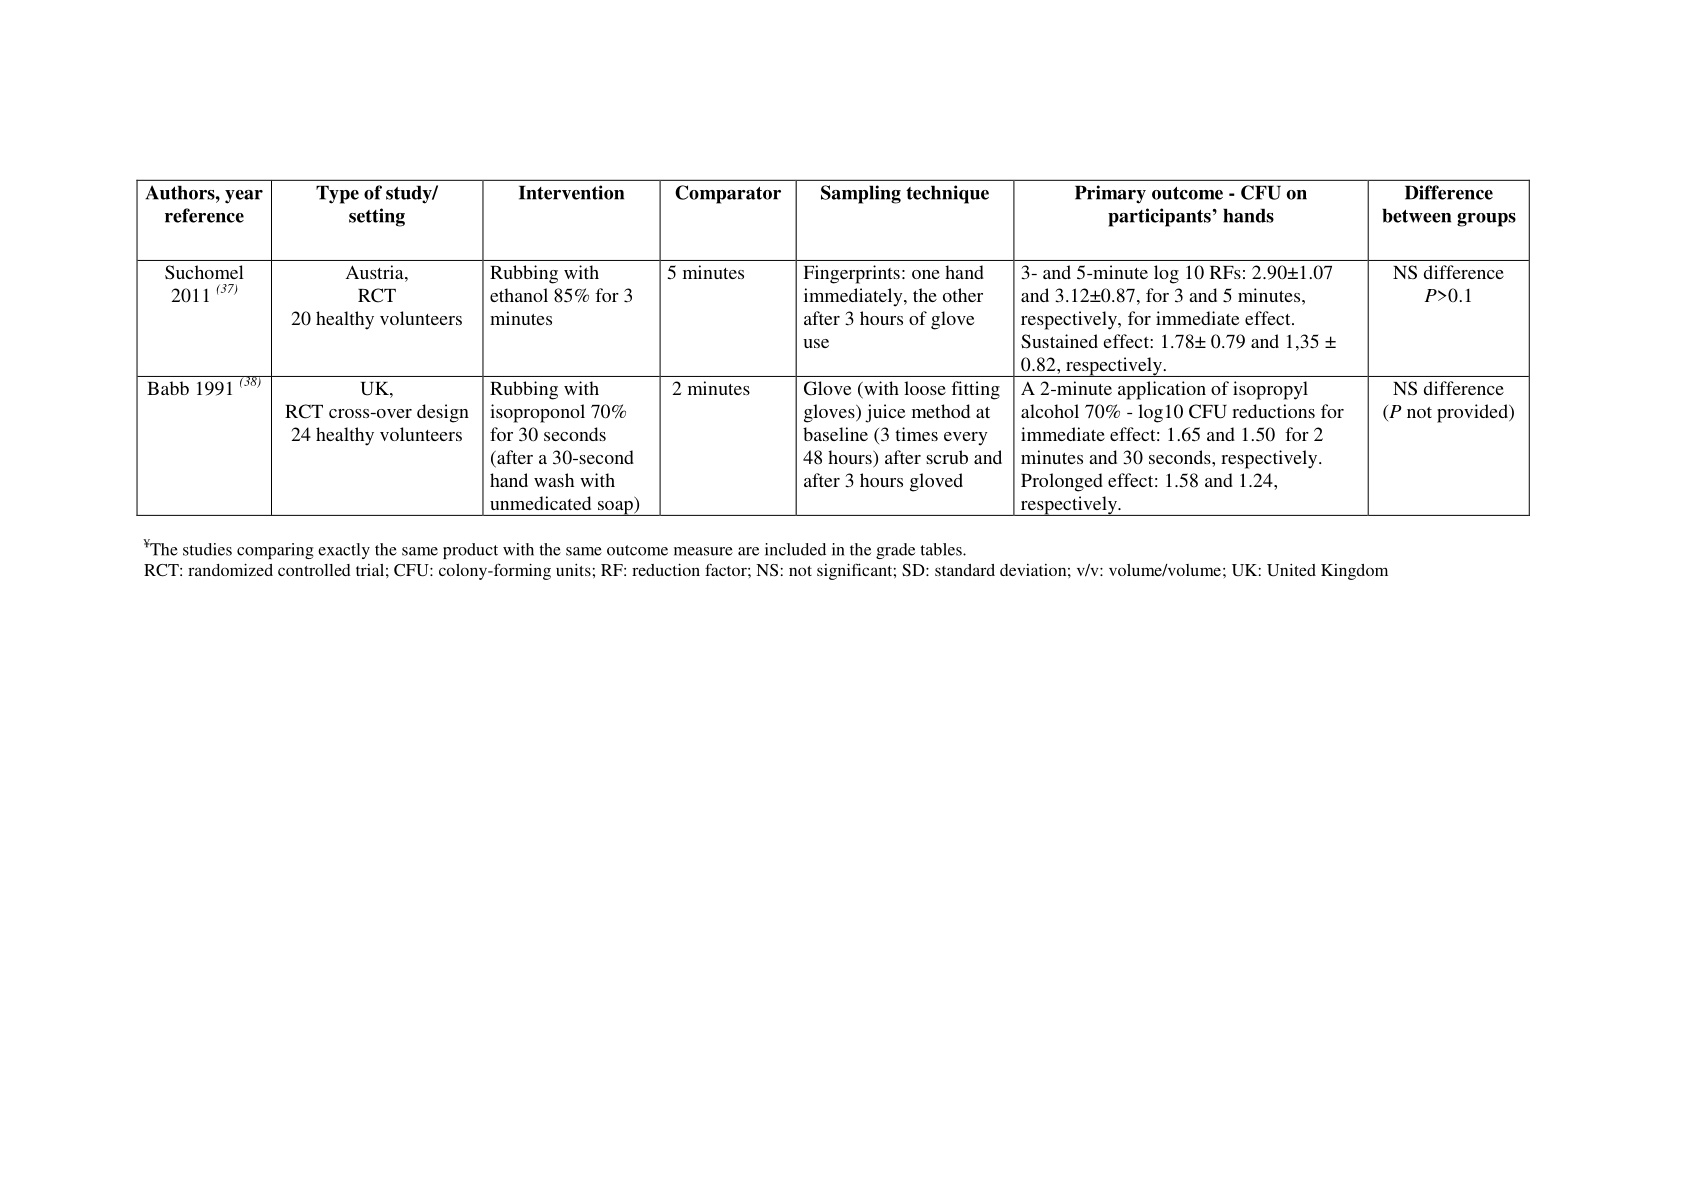full_lined: (134, 178, 1531, 518)
